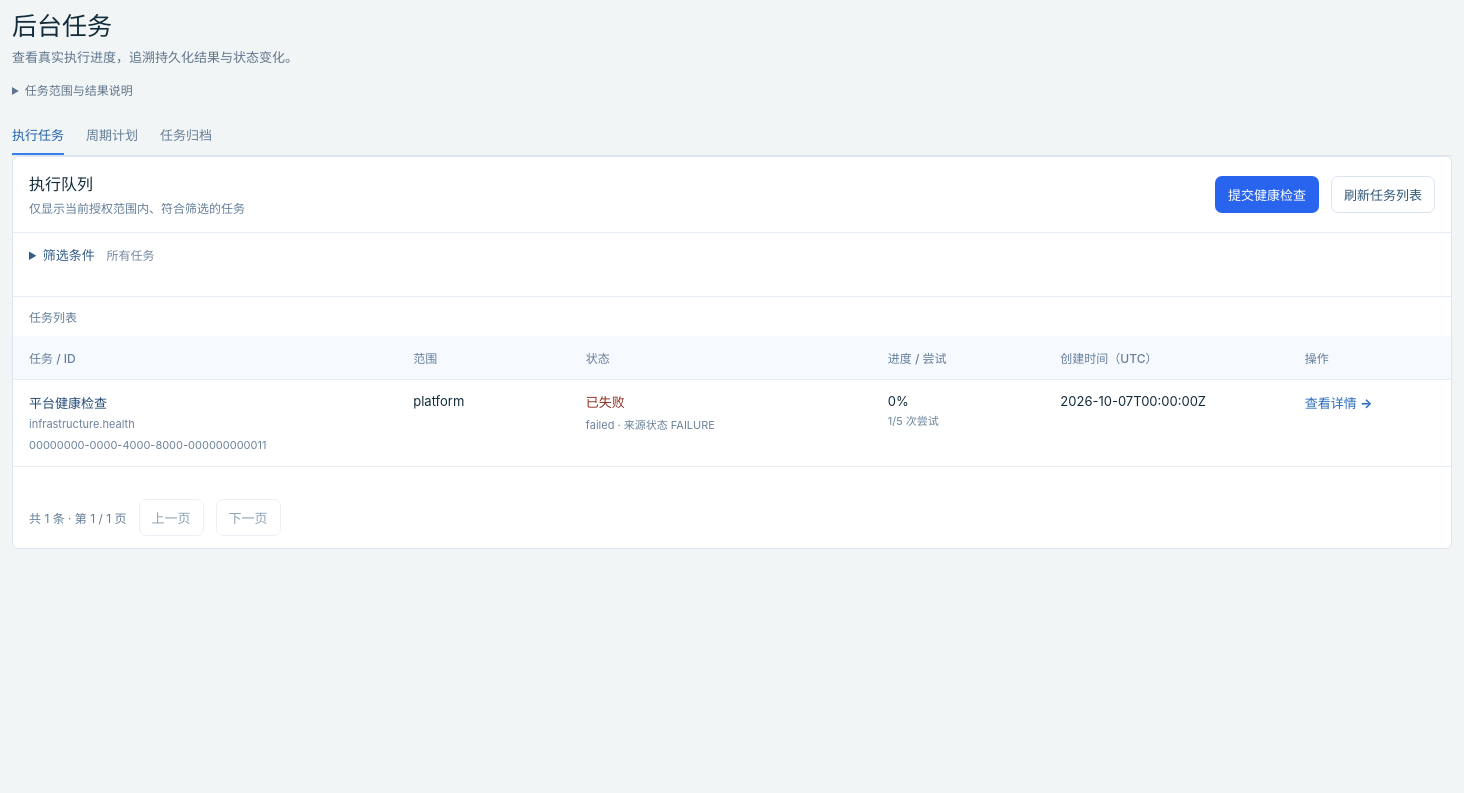
Test: periodic maintenance UI › does not invent a schedule editor for an unknown registered task kind
Expected: the table "任务列表" is shown, [13, 296, 1451, 467]
Click the button "周期计划".
click(112, 134)  # box [86, 114, 138, 155]
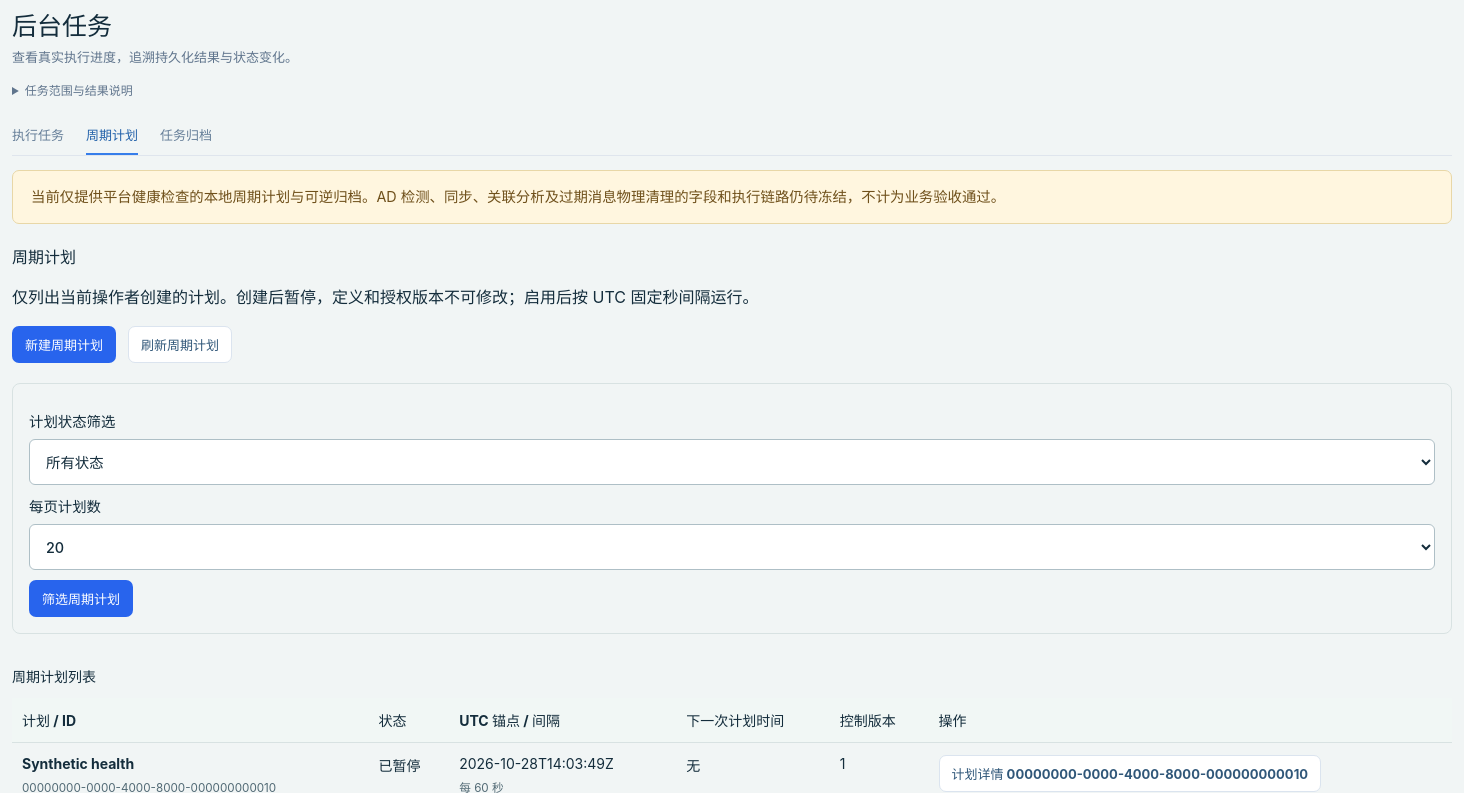
Click the button "新建周期计划".
click(64, 345)  # box [12, 326, 116, 363]
(page scrolled)
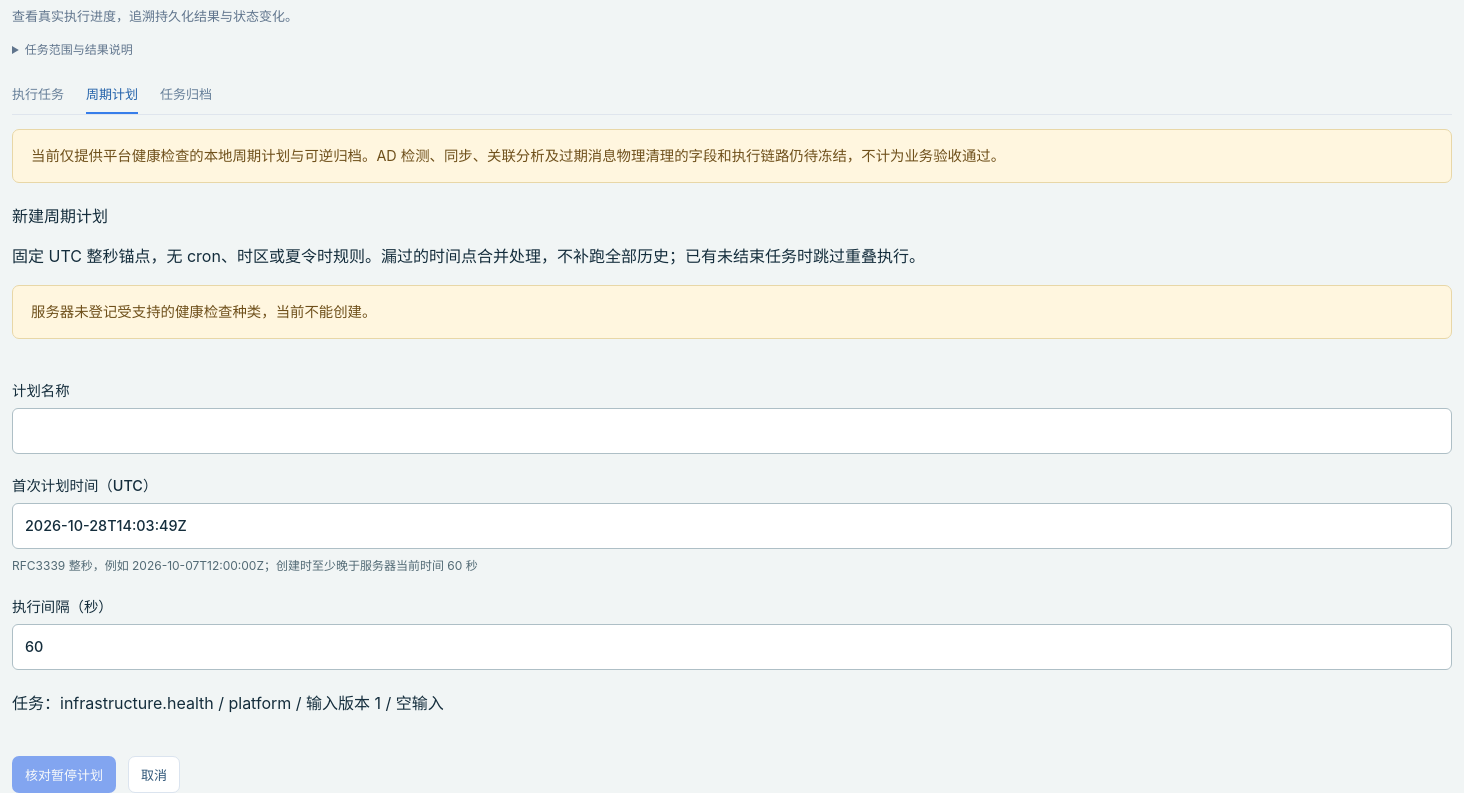
Now the text "服务器未登记受支持的健康检查种类，当前不能创建。" is shown, box [12, 285, 1452, 339]
Now the button "核对暂停计划" is disabled, box [12, 756, 116, 792]
